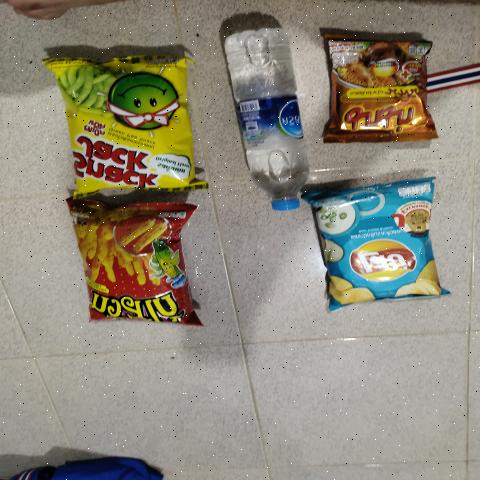crystal: (233, 22, 305, 219)
lay_blue: (326, 177, 434, 298)
mama: (343, 38, 427, 136)
snack_jack: (68, 51, 188, 193)
twisco: (83, 220, 186, 321)
